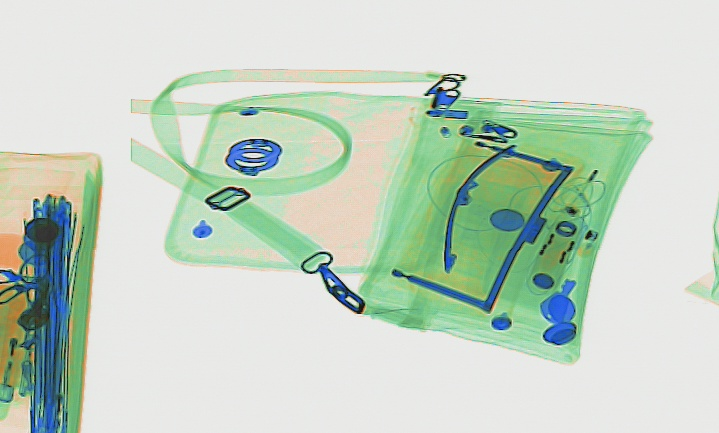lighter: (1, 296, 29, 402)
